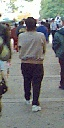person: (17, 21, 44, 110)
